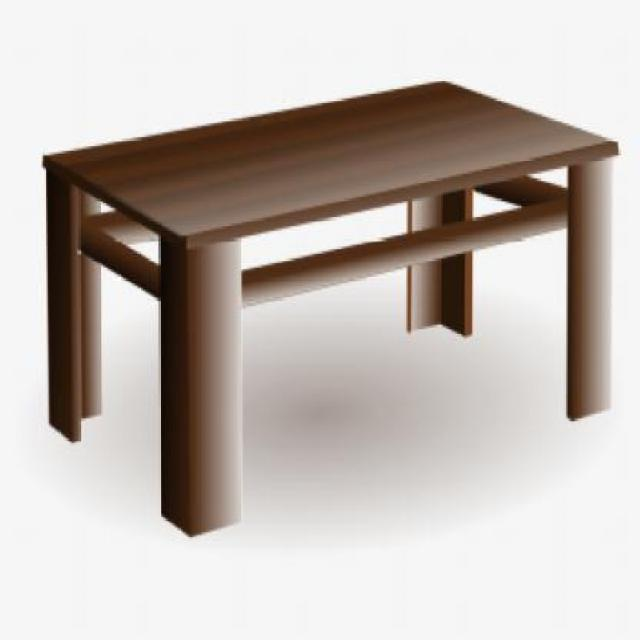table: (42, 75, 616, 540)
